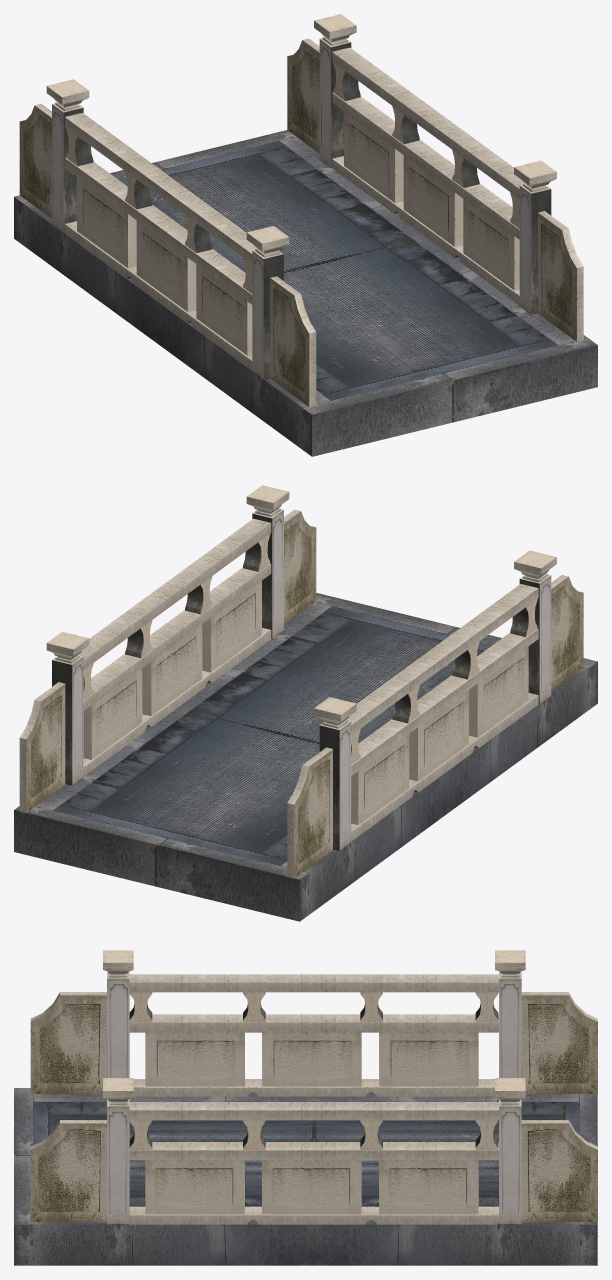
The model's file is Building_Beilangqiao.FBX.
3 views of the same model, one above another, from view 1: azimuth 30°, elevation 25°; view 2: azimuth 150°, elevation 25°; view 3: azimuth 270°, elevation 25° (orthographic). The views are drawn at different scales.
Parts seen in each view (by area): view 1: Object01; view 2: Object01; view 3: Object01.
Part boxes in pixels (x1,y1,x2,y2): Object01: [14, 14, 597, 456]; Object01: [14, 485, 597, 921]; Object01: [14, 950, 597, 1265].
Size of the model in its own units: 294 by 172 by 515.
